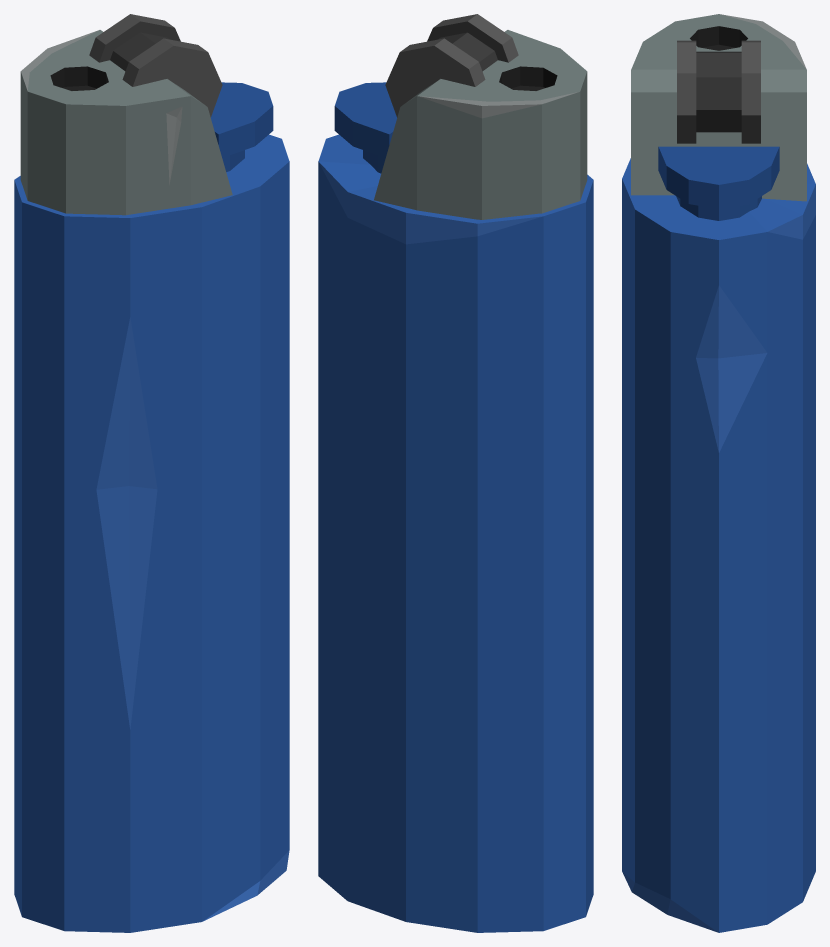
Rendered from mesh_lighter_blue.fbx.
3 renders of one model, left to right at view 1: azimuth 30°, elevation 25°; view 2: azimuth 150°, elevation 25°; view 3: azimuth 270°, elevation 25°, orthographic. The views are drawn at different scales.
Visible parts, largest first — view 1: mesh_lighter_blue; view 2: mesh_lighter_blue; view 3: mesh_lighter_blue.
Boxes of the visible parts, bbox=[...] form: mesh_lighter_blue: bbox=[14, 14, 289, 932]; mesh_lighter_blue: bbox=[318, 14, 593, 932]; mesh_lighter_blue: bbox=[622, 14, 815, 932].
Size of the model in its own units: 0.0554 by 0.1741 by 0.0369.
